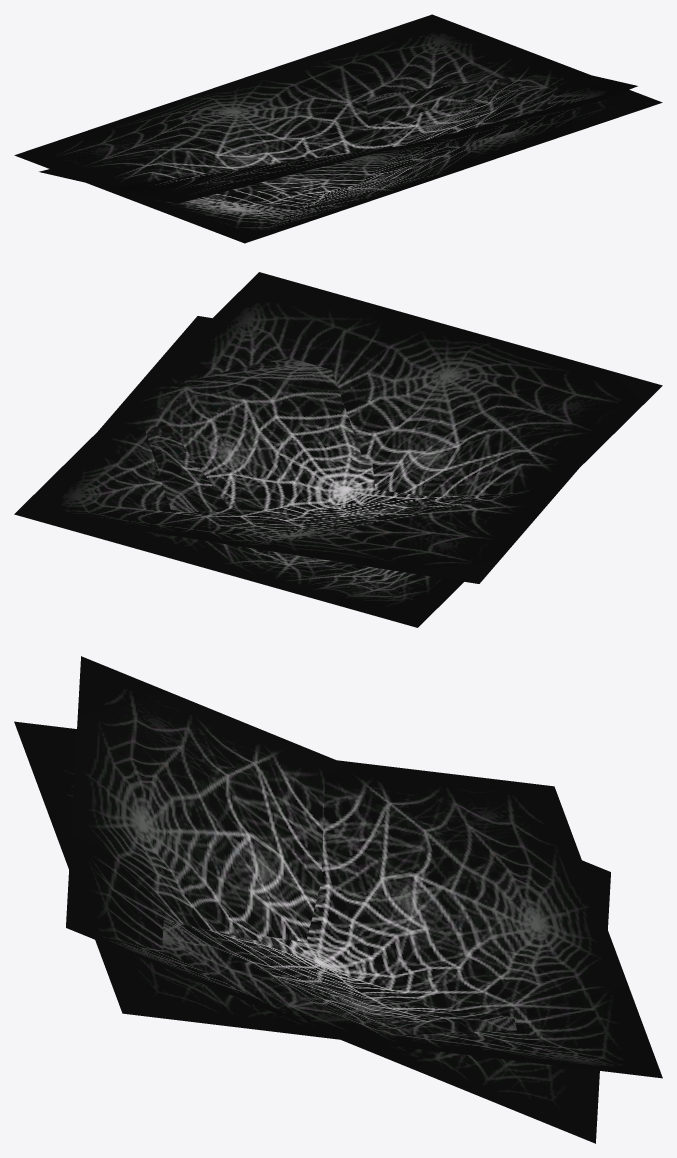
File: DWARF_PALACE_SPIDERWEB10.fbx
The picture shows the model from 3 angles, top to bottom: view 1: azimuth 30°, elevation 25°; view 2: azimuth 150°, elevation 25°; view 3: azimuth 270°, elevation 25°; orthographic projection. The views are drawn at different scales.
Visible parts, largest first — view 1: DWARF_PALACE_SPIDERWEB10; view 2: DWARF_PALACE_SPIDERWEB10; view 3: DWARF_PALACE_SPIDERWEB10.
Part boxes in pixels (x1,y1,x2,y2): DWARF_PALACE_SPIDERWEB10: (14,14,662,243); DWARF_PALACE_SPIDERWEB10: (14,272,662,627); DWARF_PALACE_SPIDERWEB10: (14,656,662,1143).
Bounding box in the file's own units: 81693 × 21864 × 68365.
Materials: 1 (1 with a texture image).
